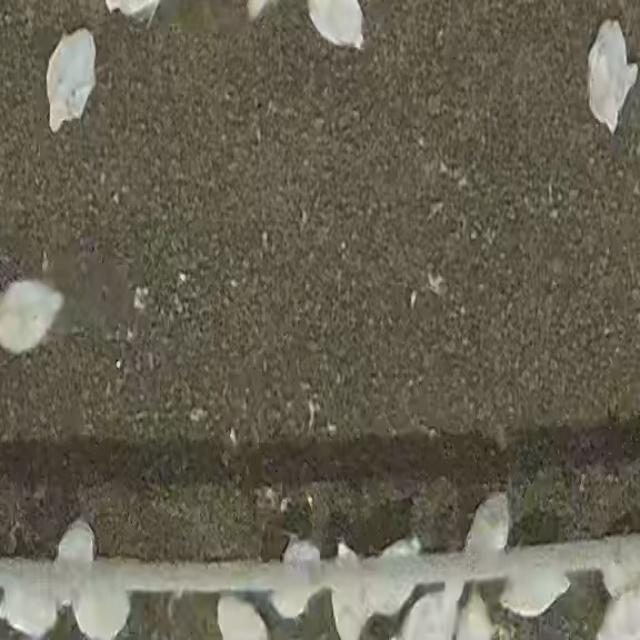chicken: (585, 19, 640, 138), (43, 27, 99, 131), (332, 540, 371, 640)
